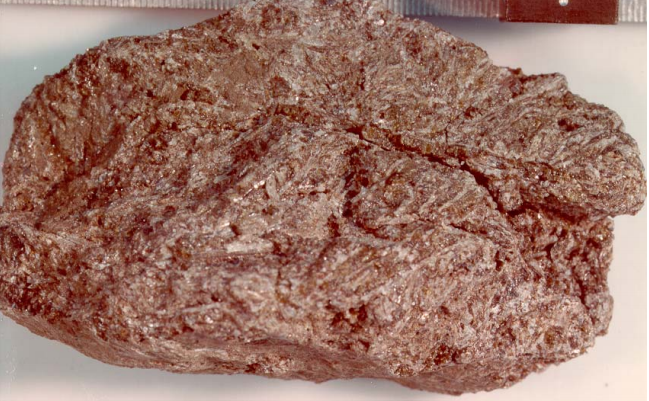Basalt: (2, 2, 643, 393)
